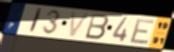3: (41, 9, 62, 36)
4: (111, 16, 129, 43)
B: (83, 12, 110, 41)
E: (128, 18, 157, 45)
I: (27, 7, 44, 34)
V: (68, 10, 92, 39)
